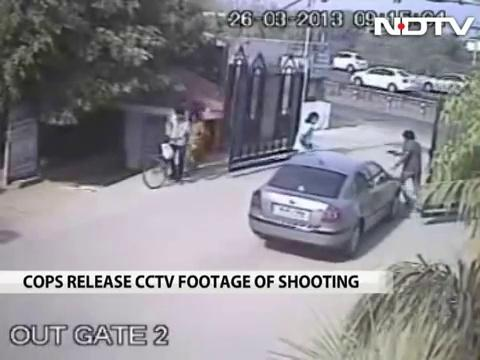weapon: (383, 146, 401, 157)
